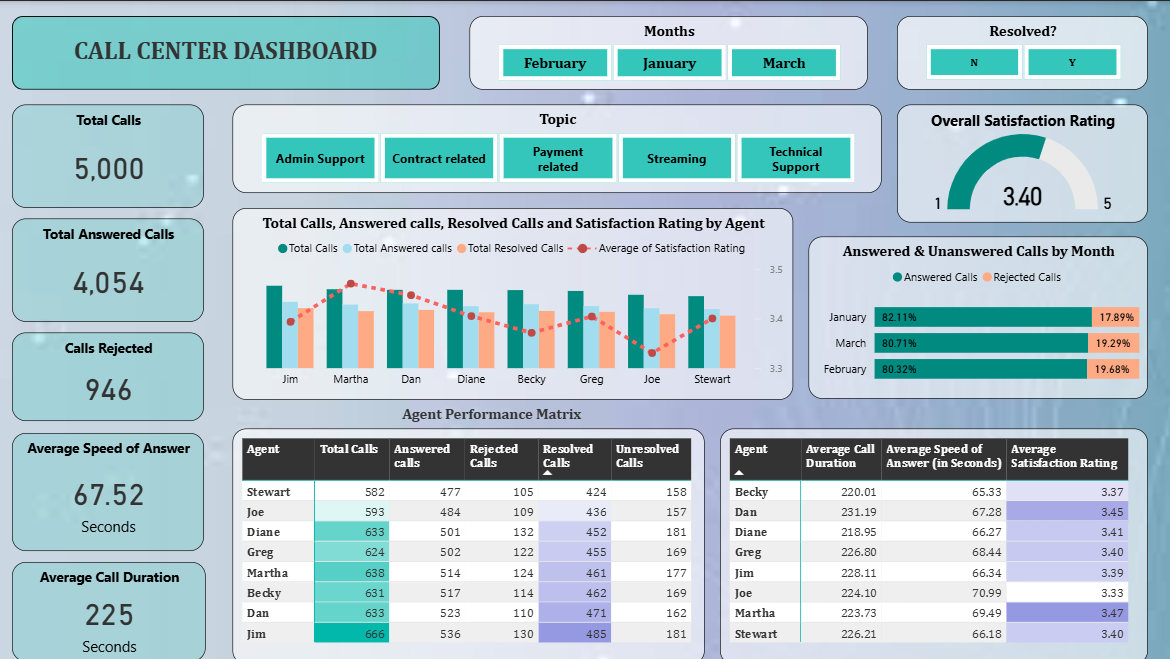

What the dashboard file says about the page in this screenshot:
{"tool":"powerbi","page":{"name":"Report","canvas":[1280,720],"ordinal":0},"visuals":[{"type":"shape","box":[16,16,464,80],"z":0},{"type":"slicer","title":"Months","fields":{"Values":["Call Center Data.Month Name"]},"box":[512,16,432,80],"z":1000},{"type":"slicer","title":"Resolved?","fields":{"Values":["Call Center Data.Resolved"]},"box":[976,16,272,80],"z":2000},{"type":"gauge","title":"Overall Satisfaction Rating","fields":{"MinValue":["Min(Call Center Data.Satisfaction rating)1"],"MaxValue":["Max(Call Center Data.Satisfaction rating)2"],"Y":["Measure Table.Average of Satisfaction Rating"]},"box":[976,112,272,128],"z":3000},{"type":"card","title":"Total Calls","fields":{"Values":["Measure Table.Total Calls"]},"box":[16,112,208,112],"z":4000},{"type":"pivotTable","fields":{"Rows":["Call Center Data.Agent"],"Values":["Measure Table.Average of Average Call Duration","Measure Table.Average Speed of Answer in Seconds","Measure Table.Average of Satisfaction Rating"]},"box":[784,464,464,256],"z":5000},{"type":"hundredPercentStackedBarChart","title":"Answered & Unanswered Calls by Month","fields":{"Category":["Call Center Data.Month Name"],"Y":["Measure Table.Total Answered calls","Measure Table.Total Rejected Calls"]},"box":[880,256,368,176],"z":6000},{"type":"textbox","box":[70.9,32.4,352.4,48.6],"z":7000},{"type":"card","title":"Total Answered Calls","fields":{"Values":["Measure Table.Total Answered calls"]},"box":[16,236,208,112],"z":8000},{"type":"card","title":"Calls Rejected","fields":{"Values":["Measure Table.Total Unanswered Calls"]},"box":[16,360,208,96],"z":9000},{"type":"card","title":"Average Speed of Answer","fields":{"Values":["Measure Table.Average Speed of Answer in Seconds"]},"box":[16,468,208,128],"z":10000},{"type":"card","title":"Average Call Duration","fields":{"Values":["Measure Table.Average of Average Call Duration"]},"box":[16,608,210,108],"z":11000},{"type":"lineClusteredColumnComboChart","title":"Total Calls, Answered calls, Resolved Calls and Satisfaction Rating by Agent","fields":{"Category":["Call Center Data.Agent"],"Y":["Measure Table.Total Calls","Measure Table.Total Answered calls","Measure Table.Total Resolved Calls"],"Y2":["Measure Table.Average of Satisfaction Rating"]},"box":[256,224,608,208],"z":12000},{"type":"pivotTable","fields":{"Rows":["Call Center Data.Agent"],"Values":["Measure Table.Total Calls","Measure Table.Total Answered calls","Measure Table.Total Unanswered Calls","Measure Table.Total Resolved Calls","Measure Table.Total Unresolved Calls"]},"box":[256,464,512,256],"z":14000},{"type":"slicer","title":"Topic","fields":{"Values":["Call Center Data.Topic"]},"box":[256,112,704,96],"z":15000},{"type":"textbox","box":[416,432,240,32],"z":16000}]}

Visuals, with their boxes in screenshot pixels (x1, y1, x2, y2), scaled from the page's 1280x720 canvas onto the 1170x659 screenshot:
shape: left=15, top=15, right=439, bottom=88
"Months" slicer: left=468, top=15, right=863, bottom=88
"Resolved?" slicer: left=892, top=15, right=1141, bottom=88
"Overall Satisfaction Rating" gauge: left=892, top=103, right=1141, bottom=220
"Total Calls" card: left=15, top=103, right=205, bottom=205
pivotTable - Call Center Data.Agent x Measure Table.Average of Average Call Duration: left=717, top=425, right=1141, bottom=658
"Answered & Unanswered Calls by Month" hundredPercentStackedBarChart: left=804, top=234, right=1141, bottom=395
textbox: left=65, top=30, right=387, bottom=74
"Total Answered Calls" card: left=15, top=216, right=205, bottom=319
"Calls Rejected" card: left=15, top=330, right=205, bottom=417
"Average Speed of Answer" card: left=15, top=428, right=205, bottom=546
"Average Call Duration" card: left=15, top=556, right=207, bottom=655
"Total Calls, Answered calls, Resolved Calls and Satisfaction Rating by Agent" lineClusteredColumnComboChart: left=234, top=205, right=790, bottom=395
pivotTable - Call Center Data.Agent x Measure Table.Total Calls: left=234, top=425, right=702, bottom=658
"Topic" slicer: left=234, top=103, right=878, bottom=190
textbox: left=380, top=395, right=600, bottom=425
